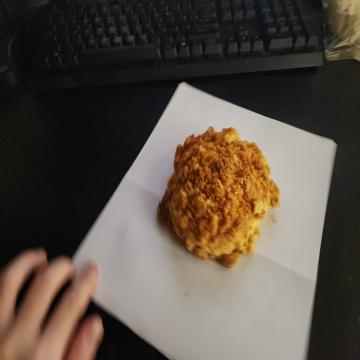soboru_bread: (157, 128, 280, 274)
